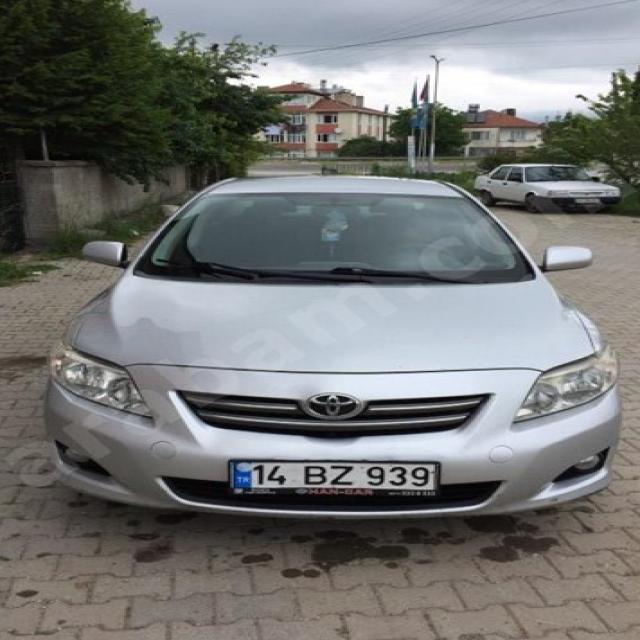license_plate: (229, 461, 440, 490)
